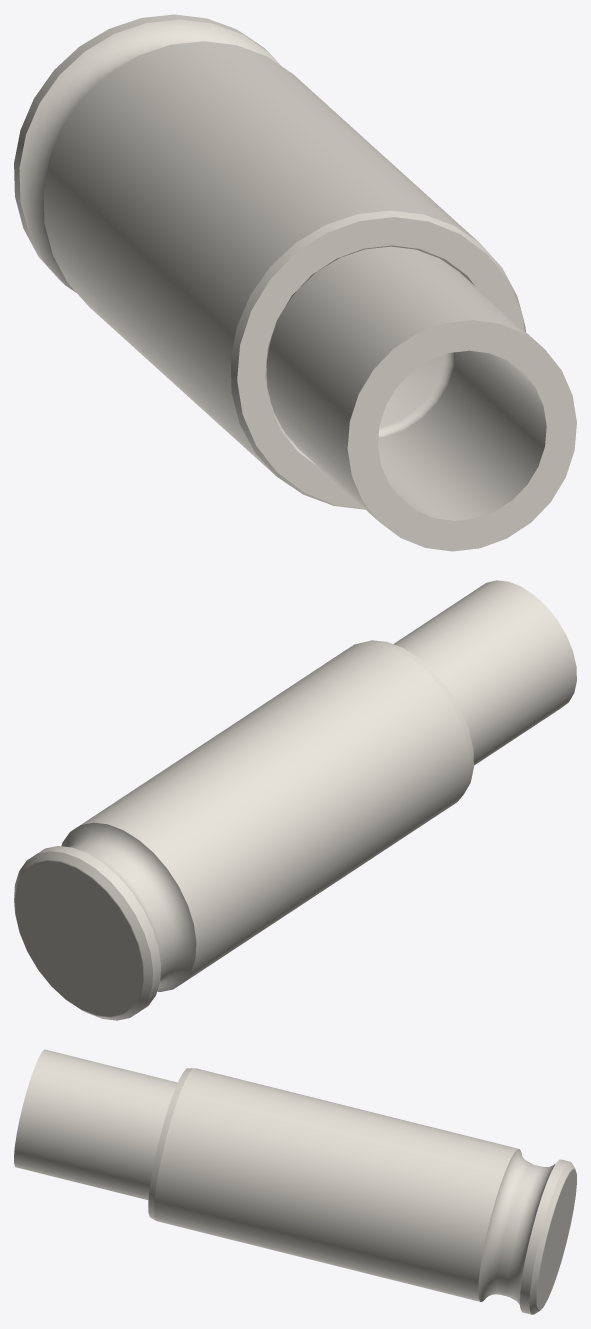
File: Hydrolic Chain tenssioner.glb
The picture shows the model from 3 angles, top to bottom: view 1: azimuth 30°, elevation 25°; view 2: azimuth 150°, elevation 25°; view 3: azimuth 270°, elevation 25°; orthographic projection. The views are drawn at different scales.
Visible parts, largest first — view 1: final bike mod.067; view 2: final bike mod.067; view 3: final bike mod.067.
Part boxes in pixels (x1=…): final bike mod.067: x1=14, y1=14, x2=576, y2=551; final bike mod.067: x1=14, y1=580, x2=576, y2=1020; final bike mod.067: x1=14, y1=1049, x2=576, y2=1314.
Bounding box in the file's own units: 0.182 × 0.1567 × 0.3946.
1 material, 1 textured.
